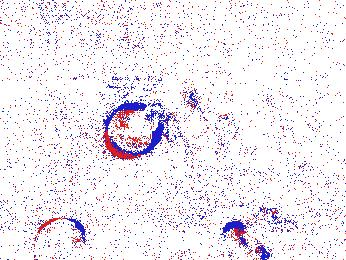flame jellyfish: (212, 206, 298, 260), (104, 94, 168, 160), (32, 217, 92, 260)
